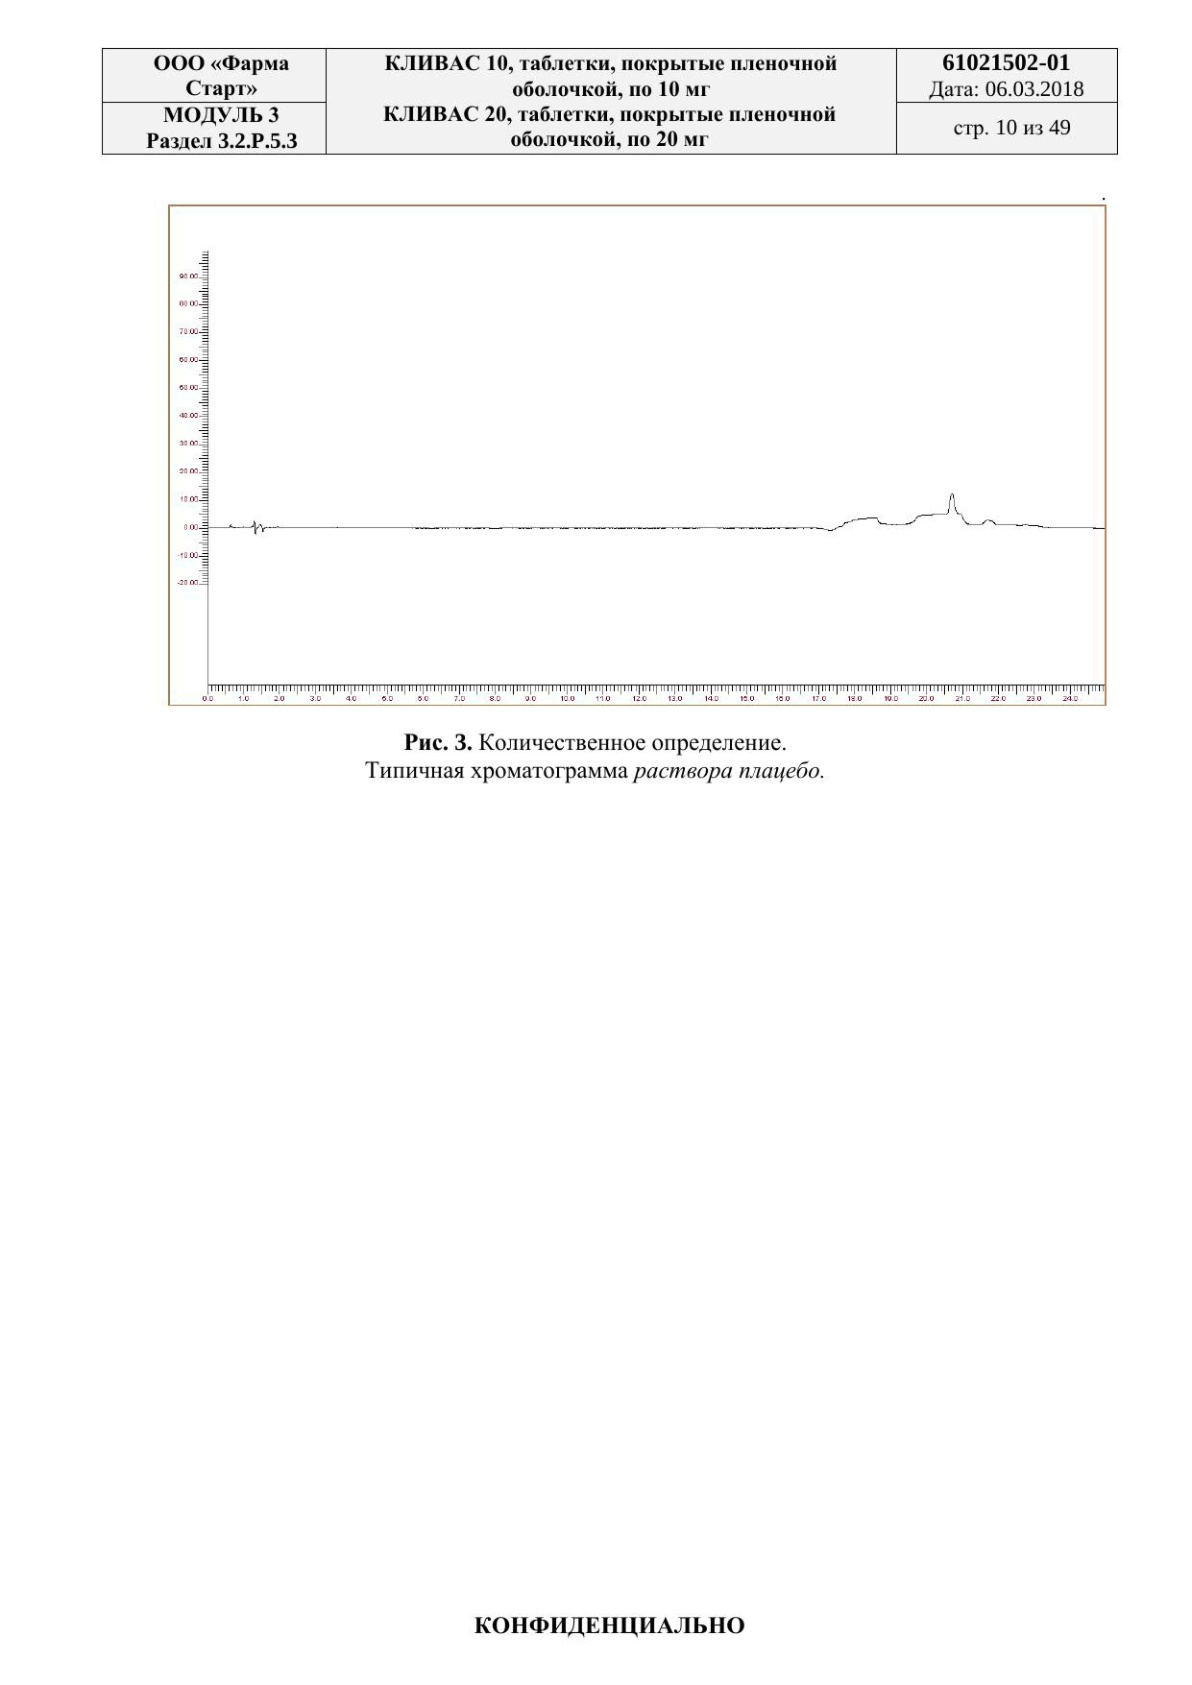merged_cells: (101, 48, 1118, 156)
